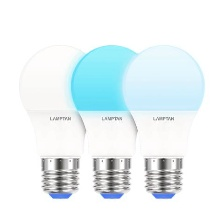light_bulb: (119, 43, 207, 204), (12, 41, 99, 201), (66, 40, 149, 203)
